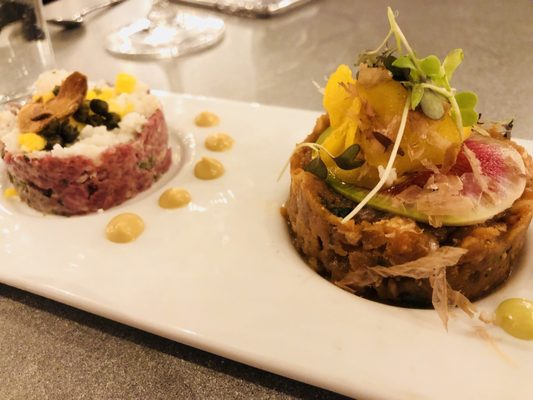soup: (282, 12, 533, 312)
